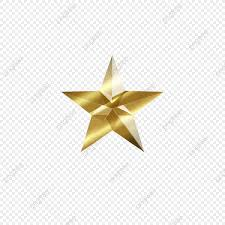star: (61, 54, 166, 156)
